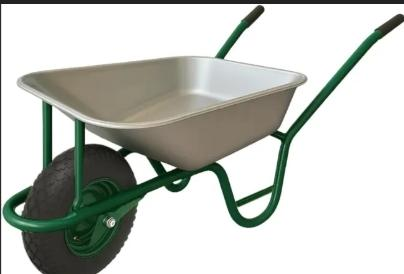BROUETTE: (0, 5, 404, 274)
